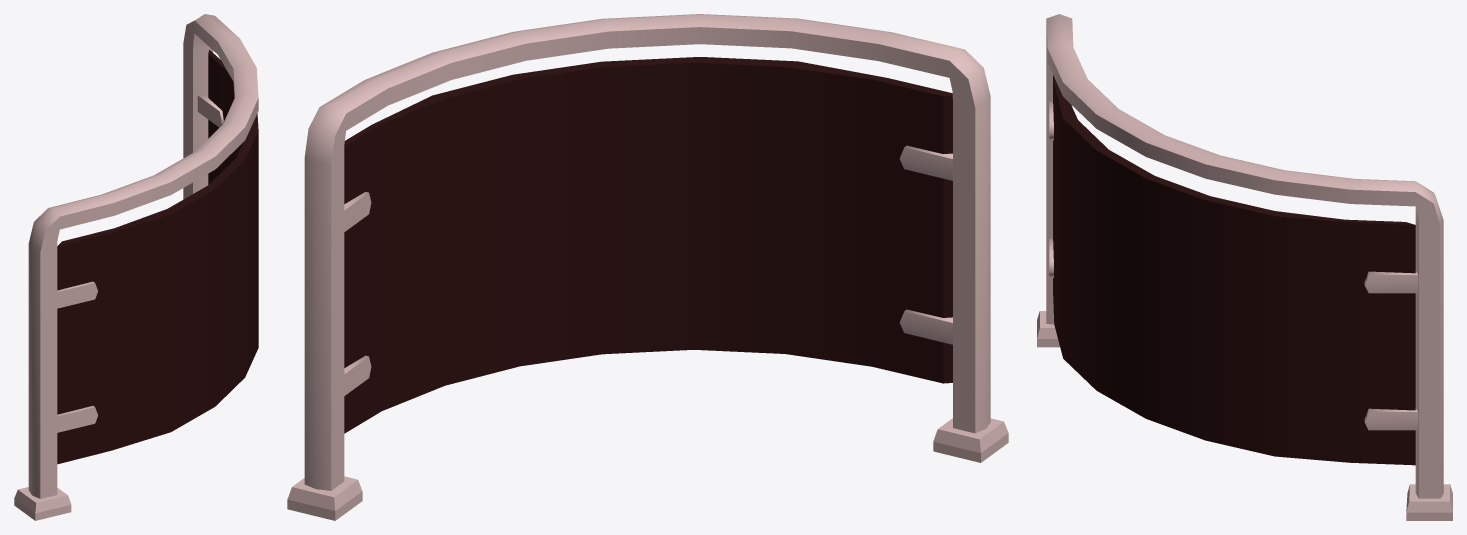
File: Module_Ss_asset_bar5.FBX
The picture shows the model from 3 angles, left to right: view 1: azimuth 30°, elevation 25°; view 2: azimuth 150°, elevation 25°; view 3: azimuth 270°, elevation 25°; orthographic projection. The views are drawn at different scales.
Visible parts, largest first — view 1: Module_Ss_asset_bar5; view 2: Module_Ss_asset_bar5; view 3: Module_Ss_asset_bar5.
Boxes of the visible parts, bbox=[...] form: Module_Ss_asset_bar5: bbox=[14, 14, 258, 520]; Module_Ss_asset_bar5: bbox=[287, 14, 1008, 520]; Module_Ss_asset_bar5: bbox=[1037, 14, 1452, 520].
Size of the model in its own units: 27.17 by 21.61 by 24.73.
